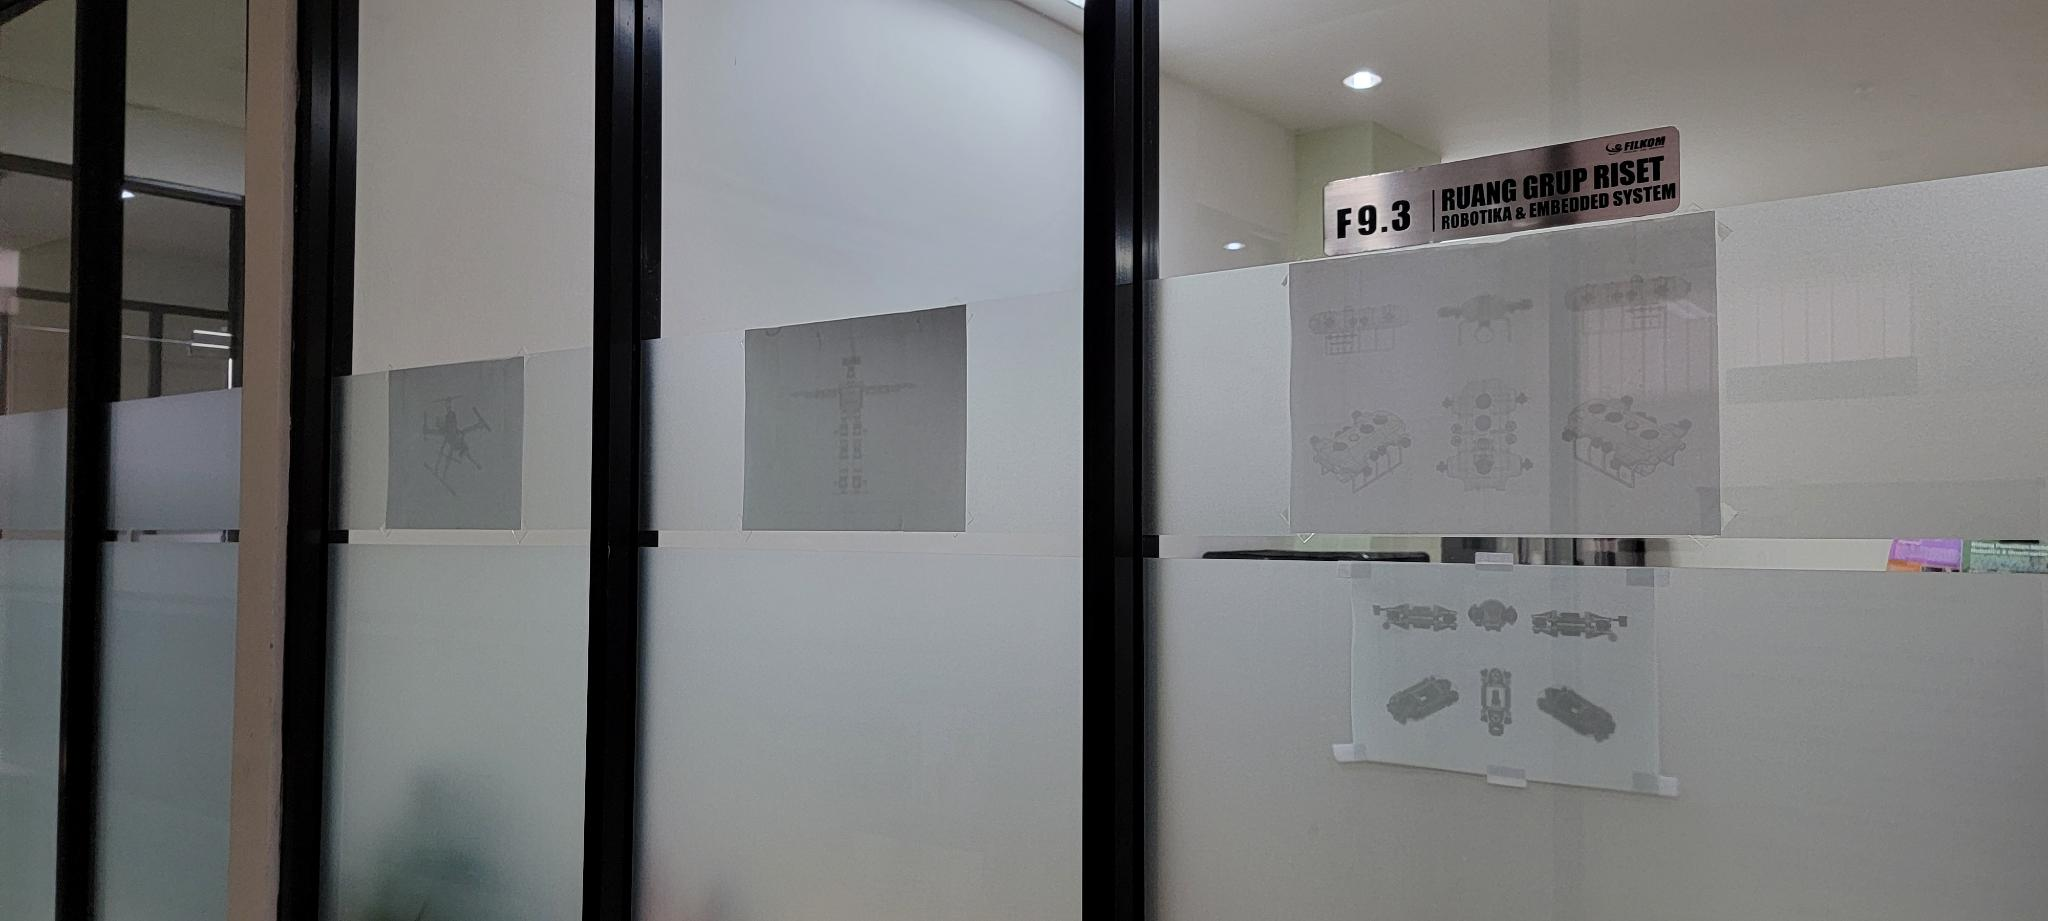plate: (1320, 124, 1682, 258)
